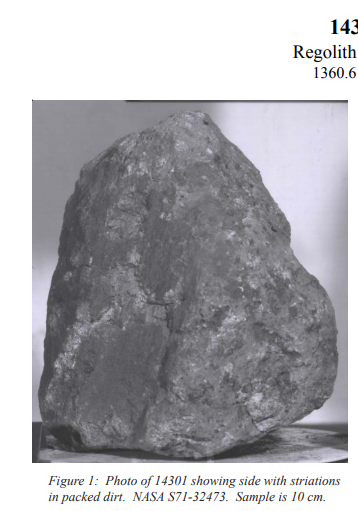Breccia: (44, 111, 350, 475), (53, 161, 328, 461), (117, 226, 294, 447)
